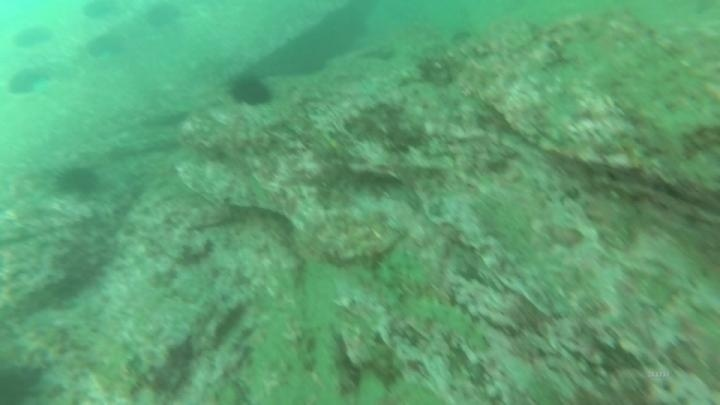echinus: (226, 71, 275, 110), (52, 162, 103, 199)
holothurian: (401, 293, 492, 356), (373, 245, 446, 309)
